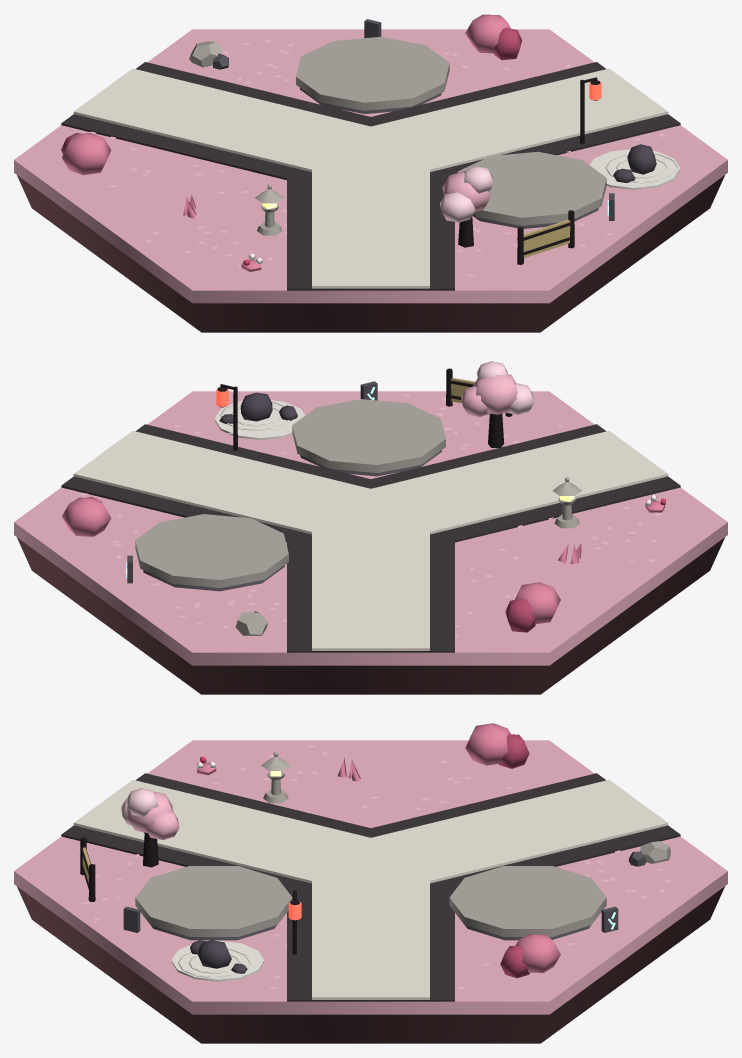
File: tile_lightningFork.glb
3 renders of one model, top to bottom at view 1: azimuth 30°, elevation 25°; view 2: azimuth 150°, elevation 25°; view 3: azimuth 270°, elevation 25°, orthographic.
Parts seen in each view (by area): view 1: ground, road, ground_soil, tower_slot_1_plate, tower_slot_2_plate, deco_tree_3, road_surface_hub, deco_karesansui_gravel, deco_bush_0_a, deco_karesansui, deco_bush_5_a, deco_petals (+3 smaller); view 2: road, ground, ground_soil, tower_slot_1_plate, tower_slot_2_plate, deco_tree_3, deco_karesansui_gravel, deco_bush_5_a, deco_karesansui, deco_bush_0_a, deco_petals, deco_bush_0_b (+2 smaller); view 3: ground, road, ground_soil, tower_slot_2_plate, tower_slot_1_plate, deco_tree_3, deco_karesansui_gravel, deco_bush_0_a, deco_karesansui, deco_bush_5_a, road_surface_hub, deco_petals (+3 smaller).
Boxes of the visible parts, x1=… form: ground: x1=14, y1=29, x2=727, y2=303; road: x1=61, y1=62, x2=680, y2=290; ground_soil: x1=17, y1=175, x2=724, y2=332; tower_slot_1_plate: x1=296, y1=37, x2=449, y2=110; tower_slot_2_plate: x1=458, y1=151, x2=606, y2=225; deco_tree_3: x1=440, y1=166, x2=493, y2=222; road_surface_hub: x1=329, y1=130, x2=429, y2=171; deco_karesansui_gravel: x1=590, y1=149, x2=680, y2=189; deco_bush_0_a: x1=62, y1=133, x2=111, y2=175; deco_karesansui: x1=605, y1=144, x2=678, y2=183; deco_bush_5_a: x1=465, y1=14, x2=510, y2=53; deco_petals: x1=88, y1=40, x2=665, y2=276; road: x1=61, y1=424, x2=680, y2=652; ground: x1=14, y1=391, x2=727, y2=665; ground_soil: x1=17, y1=537, x2=724, y2=694; tower_slot_1_plate: x1=135, y1=514, x2=288, y2=587; tower_slot_2_plate: x1=292, y1=399, x2=445, y2=472; deco_tree_3: x1=461, y1=361, x2=534, y2=416; deco_karesansui_gravel: x1=214, y1=400, x2=305, y2=440; deco_bush_5_a: x1=62, y1=497, x2=111, y2=536; deco_karesansui: x1=219, y1=392, x2=297, y2=430; deco_bush_0_a: x1=515, y1=582, x2=560, y2=624; deco_petals: x1=79, y1=394, x2=661, y2=637; deco_bush_0_b: x1=505, y1=598, x2=535, y2=632; ground: x1=14, y1=740, x2=727, y2=1014; road: x1=61, y1=773, x2=680, y2=1001; ground_soil: x1=17, y1=886, x2=724, y2=1043; tower_slot_2_plate: x1=135, y1=866, x2=292, y2=936; tower_slot_1_plate: x1=449, y1=866, x2=606, y2=936; deco_tree_3: x1=121, y1=788, x2=179, y2=839; deco_karesansui_gravel: x1=171, y1=940, x2=264, y2=981; deco_bush_0_a: x1=465, y1=723, x2=510, y2=765; deco_karesansui: x1=178, y1=940, x2=250, y2=978; deco_bush_5_a: x1=515, y1=934, x2=560, y2=972; road_surface_hub: x1=316, y1=855, x2=425, y2=891; deco_petals: x1=78, y1=745, x2=670, y2=989.
Size of the model in its own units: 1.73 by 0.3899 by 2.
